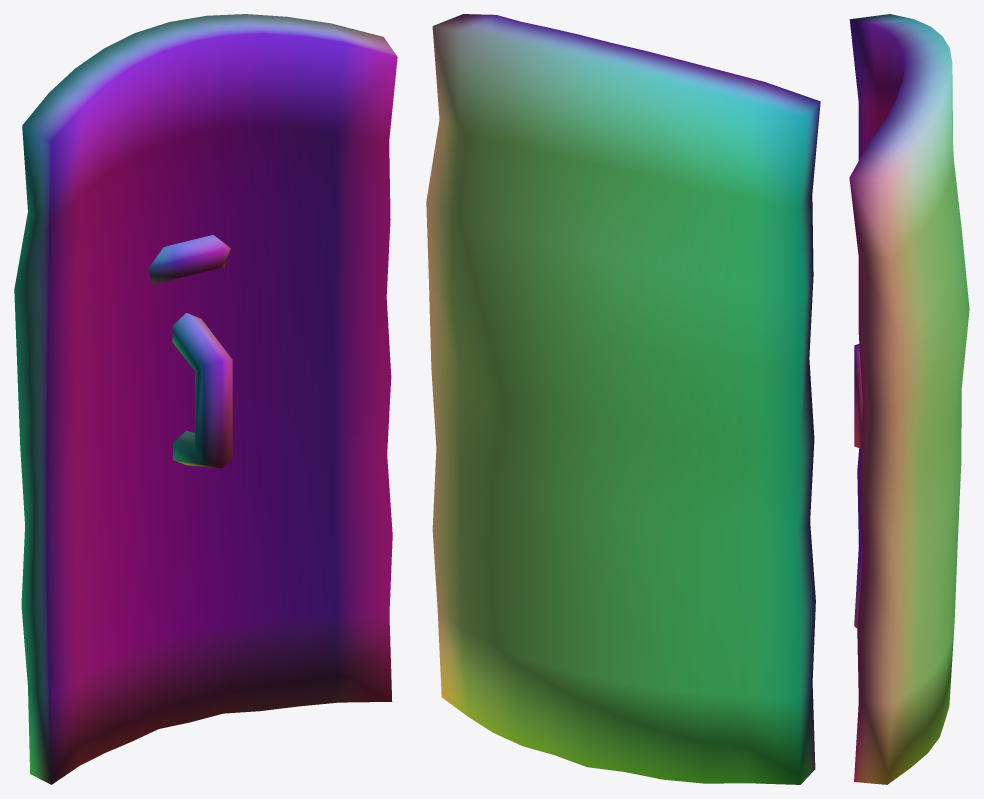
Rendered from SM_MonWeapon_TowerShield.fbx.
3 views of the same model, side by side, from view 1: azimuth 30°, elevation 25°; view 2: azimuth 150°, elevation 25°; view 3: azimuth 270°, elevation 25° (orthographic). The views are drawn at different scales.
Visible parts, largest first — view 1: SM_MonWeapon_TowerShield; view 2: SM_MonWeapon_TowerShield; view 3: SM_MonWeapon_TowerShield.
Boxes of the visible parts, x1,y1,x2,y2 form: SM_MonWeapon_TowerShield: (14,14,397,784); SM_MonWeapon_TowerShield: (426,14,820,784); SM_MonWeapon_TowerShield: (849,14,969,784).
Bounding box in the file's own units: 0.6182 × 1.11 × 0.1874.
